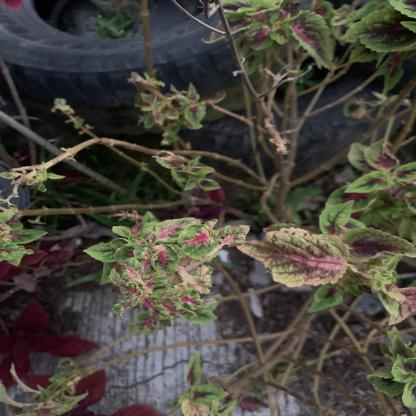Bunga Coleus: (24, 103, 411, 315)
